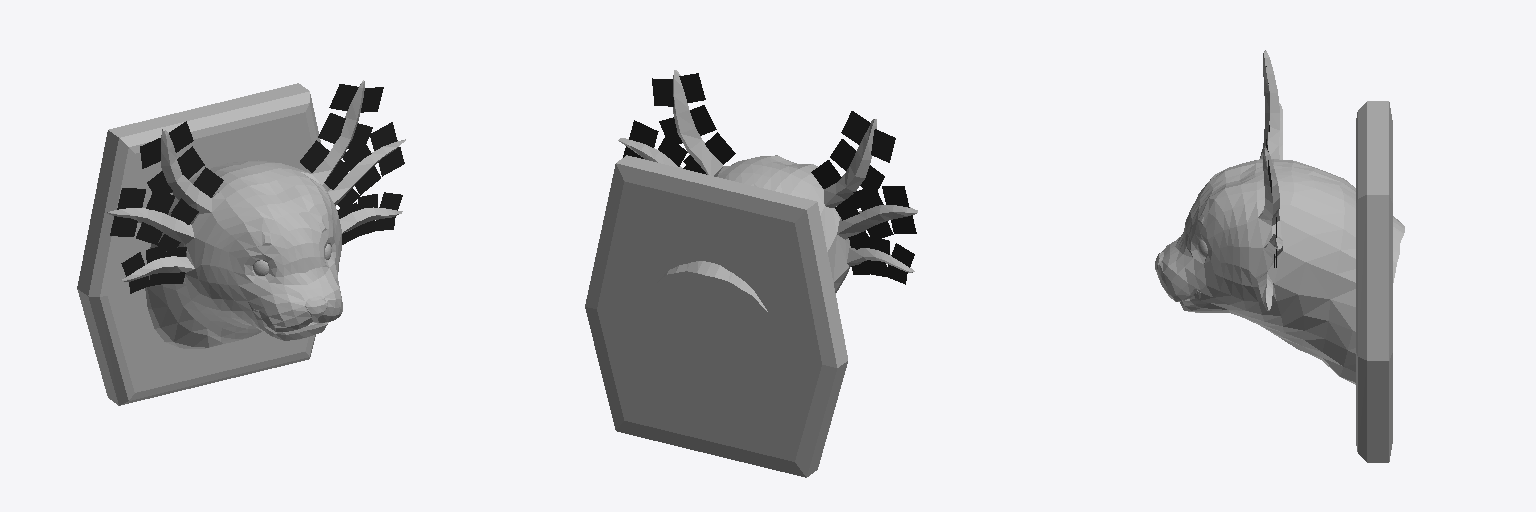
File: Axolope_Mount.obj
The picture shows the model from 3 angles: view 1: azimuth 30°, elevation 25°; view 2: azimuth 150°, elevation 25°; view 3: azimuth 270°, elevation 25°; orthographic projection.
Visible parts, largest first — view 1: AxolopePoor_Guy, Poor_GuyMount, Poor_GuyHairs1Hairs39; view 2: Poor_GuyMount, AxolopePoor_Guy, Poor_GuyHairs1Hairs39; view 3: AxolopePoor_Guy, Poor_GuyMount.
Part boxes in pixels (bbox=[...]): AxolopePoor_Guy: bbox=[107, 80, 405, 348]; Poor_GuyMount: bbox=[77, 83, 329, 405]; Poor_GuyHairs1Hairs39: bbox=[110, 84, 404, 293]; Poor_GuyMount: bbox=[585, 155, 847, 477]; AxolopePoor_Guy: bbox=[618, 70, 917, 311]; Poor_GuyHairs1Hairs39: bbox=[623, 73, 916, 284]; AxolopePoor_Guy: bbox=[1155, 50, 1404, 384]; Poor_GuyMount: bbox=[1356, 101, 1392, 462].
Size of the model in its own units: 3.33 by 3.39 by 2.42.